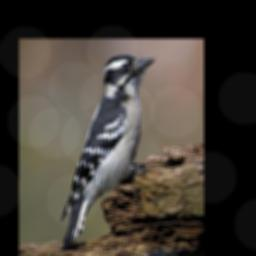Woodpecker: (60, 51, 155, 253)
